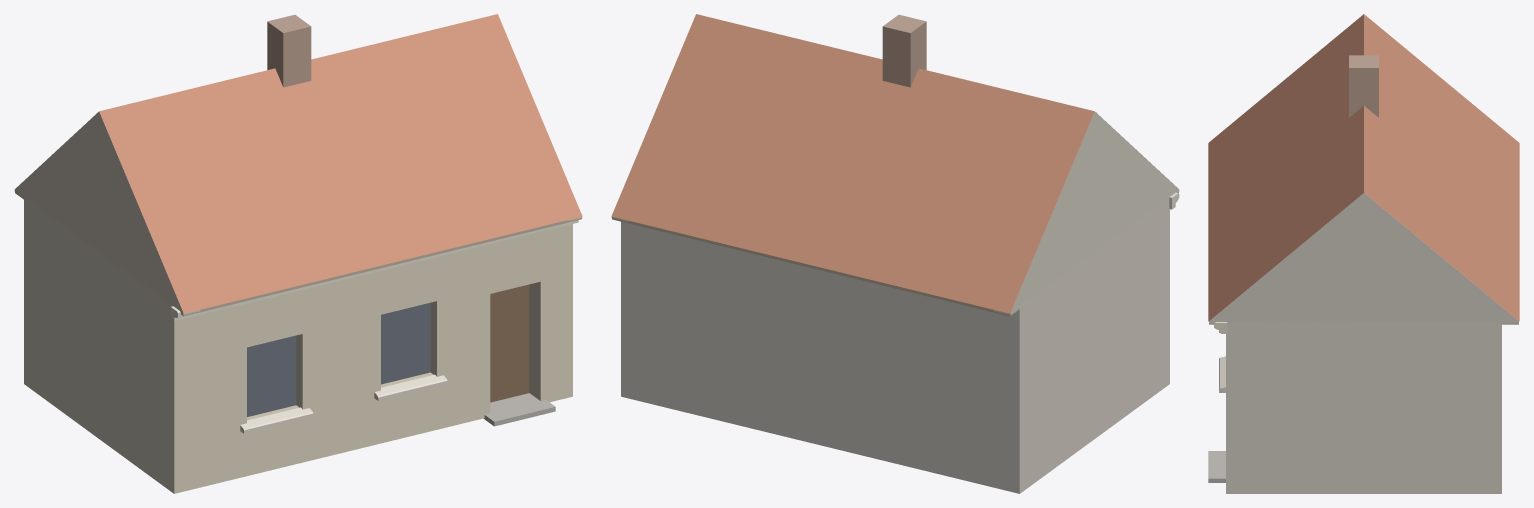
3 views of the same model, side by side, from view 1: azimuth 30°, elevation 25°; view 2: azimuth 150°, elevation 25°; view 3: azimuth 270°, elevation 25° (orthographic). The views are drawn at different scales.
Parts seen in each view (by area): view 1: CP_1886_Masonry, CP_1886_Roof, CP_1886_Gable_L_gable, CP_1886_Chimney_0, CP_1886_Threshold_D1, CP_1886_Cornice_main_0, CP_1886_Roof_EaveClosure_0, CP_1886_Sill_G2, CP_1886_Sill_G1; view 2: CP_1886_Masonry, CP_1886_Roof, CP_1886_Gable_L_gable, CP_1886_Chimney_0, CP_1886_Roof_EaveClosure_1; view 3: CP_1886_Roof, CP_1886_Masonry, CP_1886_Gable_R_gable, CP_1886_Chimney_0, CP_1886_Threshold_D1.
Part boxes in pixels (<box>): CP_1886_Masonry: <box>24,197,572,493</box>; CP_1886_Roof: <box>16,14,582,313</box>; CP_1886_Gable_L_gable: <box>14,111,200,315</box>; CP_1886_Chimney_0: <box>267,14,311,87</box>; CP_1886_Threshold_D1: <box>483,393,555,426</box>; CP_1886_Cornice_main_0: <box>170,213,582,320</box>; CP_1886_Roof_EaveClosure_0: <box>181,218,581,316</box>; CP_1886_Sill_G2: <box>374,374,447,400</box>; CP_1886_Sill_G1: <box>240,407,313,433</box>; CP_1886_Masonry: <box>621,198,1169,493</box>; CP_1886_Roof: <box>611,14,1177,313</box>; CP_1886_Gable_L_gable: <box>993,111,1179,315</box>; CP_1886_Chimney_0: <box>882,14,926,87</box>; CP_1886_Roof_EaveClosure_1: <box>612,218,1019,316</box>; CP_1886_Roof: <box>1208,14,1519,321</box>; CP_1886_Masonry: <box>1226,322,1501,493</box>; CP_1886_Gable_R_gable: <box>1209,193,1518,323</box>; CP_1886_Chimney_0: <box>1349,55,1378,117</box>; CP_1886_Threshold_D1: <box>1208,451,1225,482</box>.
Size of the model in its own units: 7.23 by 6.32 by 5.25.
